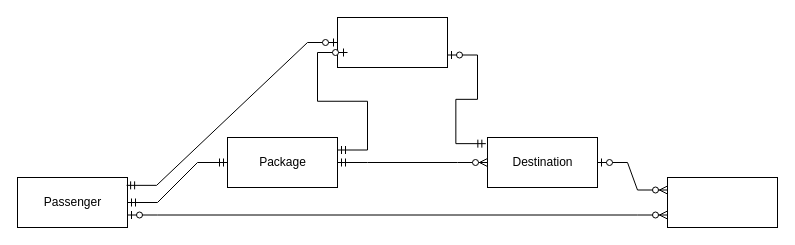
This 795x245 diagram has some shape labels left out. Each missing label, with the centre of its shape:
Activity: (x=722, y=202)
Client: (x=392, y=42)
